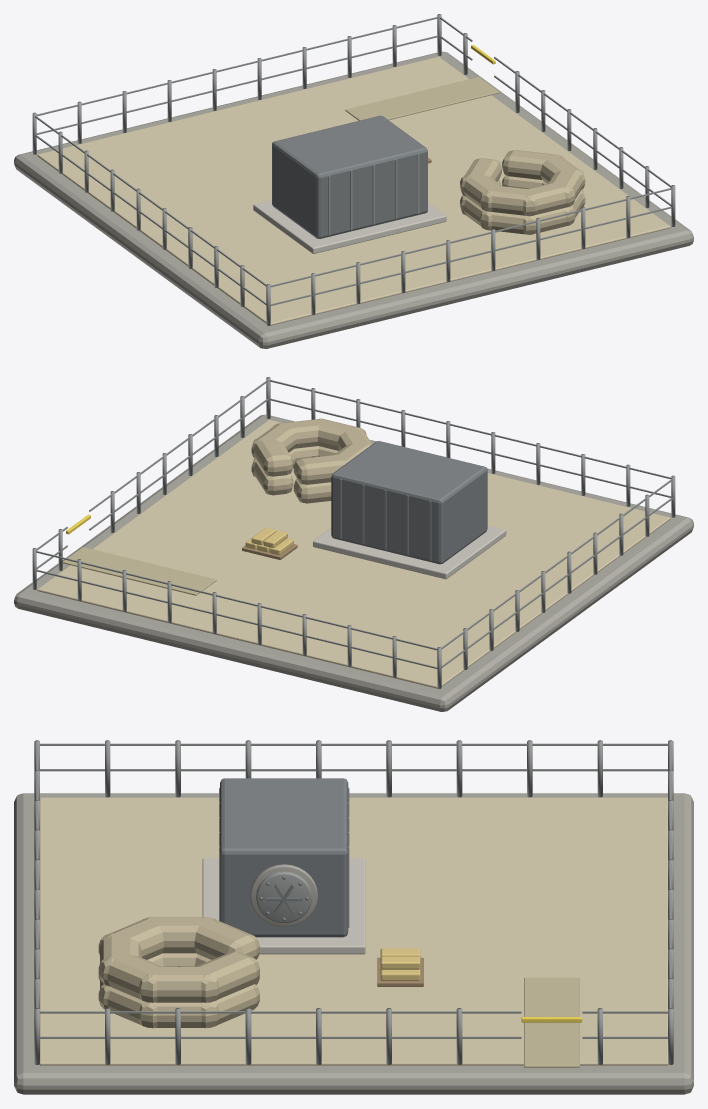
Rendered from goldvault_2.glb.
3 views of the same model, one above another, from view 1: azimuth 30°, elevation 25°; view 2: azimuth 150°, elevation 25°; view 3: azimuth 270°, elevation 25° (orthographic). The views are drawn at different scales.
Visible parts, largest first — view 1: Cube.001, Cube, Cube.004, Cube.003, Cube.002, Cube.028, Cube.022, Cube.030, Cube.035, Cube.039, Cube.040, Cube.034 (+9 smaller); view 2: Cube.001, Cube, Cube.004, Cube.003, Cube.002, Cube.024, Cube.022, Cube.034, Cube.040, Cube.039, Cube.035, Cube.032 (+8 smaller); view 3: Cube.001, Cube, Cube.004, Cube.002, Cube.003, Cube.020, Cube.022, Cylinder.001, Cube.024, Cube.036, Cube.041, Cube.032 (+12 smaller).
Part boxes in pixels (bbox=[...]): Cube.001: bbox=[37, 56, 670, 325]; Cube: bbox=[14, 51, 693, 348]; Cube.004: bbox=[272, 115, 427, 238]; Cube.003: bbox=[253, 200, 446, 253]; Cube.002: bbox=[345, 77, 499, 120]; Cube.028: bbox=[480, 185, 537, 216]; Cube.022: bbox=[502, 150, 563, 179]; Cube.030: bbox=[523, 182, 575, 216]; Cube.035: bbox=[270, 206, 671, 305]; Cube.039: bbox=[36, 17, 438, 116]; Cube.040: bbox=[270, 188, 671, 287]; Cube.034: bbox=[36, 35, 438, 134]; Cube.001: bbox=[37, 419, 670, 688]; Cube: bbox=[14, 414, 693, 711]; Cube.004: bbox=[331, 441, 487, 564]; Cube.003: bbox=[313, 525, 506, 579]; Cube.002: bbox=[62, 547, 216, 595]; Cube.024: bbox=[293, 454, 350, 484]; Cube.022: bbox=[253, 436, 293, 476]; Cube.034: bbox=[36, 569, 437, 668]; Cube.040: bbox=[269, 380, 671, 479]; Cube.039: bbox=[36, 551, 437, 650]; Cube.035: bbox=[269, 398, 671, 497]; Cube.032: bbox=[273, 418, 326, 448]; Cube.001: bbox=[39, 797, 668, 1065]; Cube: bbox=[14, 793, 693, 1094]; Cube.004: bbox=[220, 778, 348, 937]; Cube.002: bbox=[524, 977, 579, 1067]; Cube.003: bbox=[202, 858, 365, 954]; Cube.020: bbox=[139, 966, 219, 1002]; Cube.022: bbox=[194, 952, 259, 1002]; Cylinder.001: bbox=[256, 871, 311, 922]; Cube.024: bbox=[193, 917, 259, 959]; Cube.036: bbox=[39, 769, 668, 771]; Cube.041: bbox=[39, 743, 668, 745]; Cube.032: bbox=[98, 952, 161, 1002].
Bounding box in the file's own units: 2.92 × 0.575 × 2.92.
